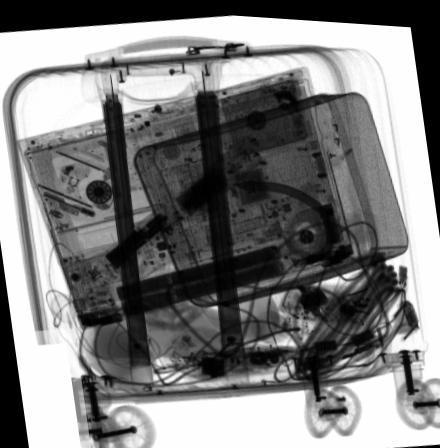Baton: (101, 132, 261, 272)
